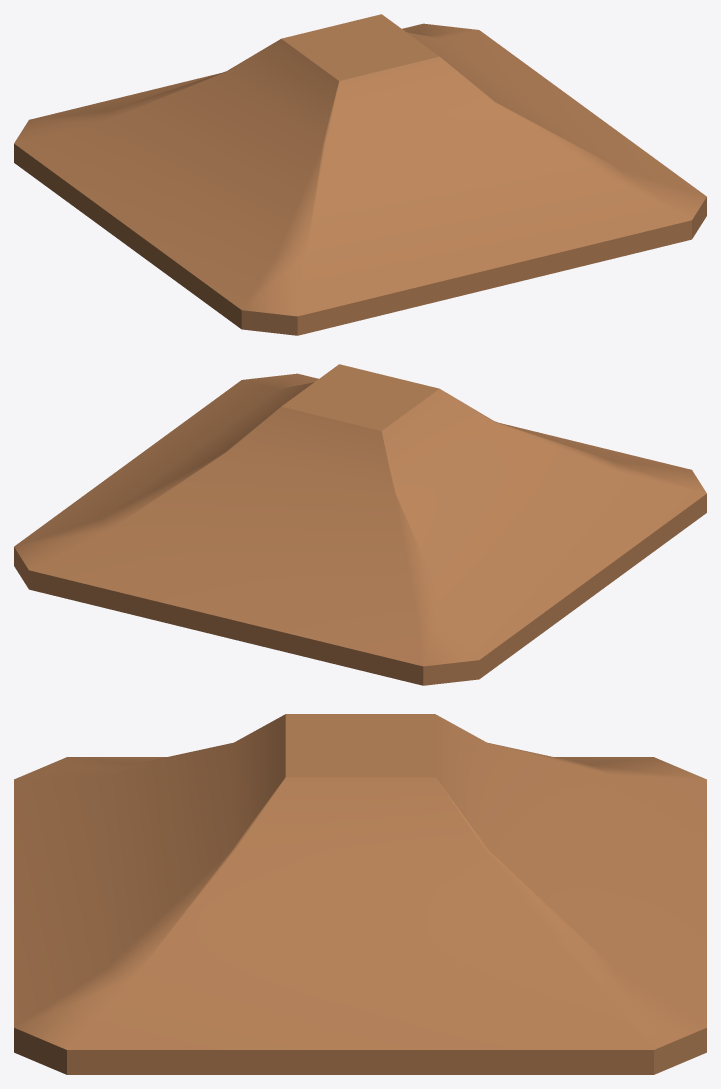
Rendered from SM_Roof_d_01.fbx.
The picture shows the model from 3 angles, top to bottom: view 1: azimuth 30°, elevation 25°; view 2: azimuth 150°, elevation 25°; view 3: azimuth 270°, elevation 25°; orthographic projection. The views are drawn at different scales.
Visible parts, largest first — view 1: SM_Roof_d_01; view 2: SM_Roof_d_01; view 3: SM_Roof_d_01.
Boxes of the visible parts, x1,y1,x2,y2 form: SM_Roof_d_01: (14,14,706,335); SM_Roof_d_01: (14,364,706,685); SM_Roof_d_01: (14,714,706,1074).
Size of the model in its own units: 9.36 by 2.72 by 9.36.
